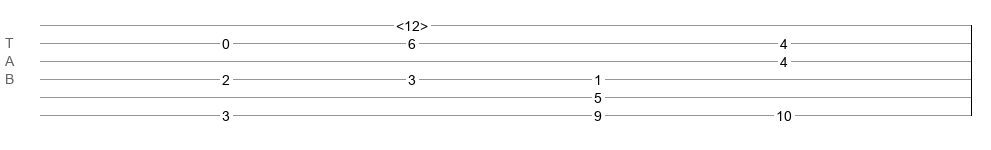0: (222, 36, 230, 46)
1: (594, 72, 602, 82)
10: (776, 108, 792, 118)
2: (222, 72, 230, 82)
3: (222, 108, 230, 118), (408, 72, 416, 82)
4: (780, 54, 788, 64), (780, 36, 788, 46)
5: (594, 90, 602, 100)
6: (408, 36, 416, 46)
9: (594, 108, 602, 118)
harmonic: (396, 18, 428, 28)
